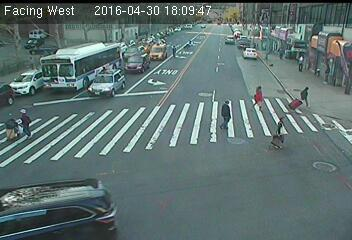neg: (295, 149, 327, 192), (315, 105, 342, 142), (75, 114, 100, 146), (327, 17, 350, 47), (329, 71, 350, 100), (136, 114, 157, 142), (15, 68, 35, 96), (182, 78, 202, 105), (239, 41, 259, 67), (45, 63, 64, 89), (128, 29, 147, 54), (21, 32, 39, 57), (106, 29, 124, 54), (128, 66, 146, 91), (277, 19, 295, 43), (304, 14, 321, 38), (213, 42, 228, 62), (224, 20, 237, 37), (108, 62, 120, 78), (78, 64, 90, 80)
pos: (14, 107, 39, 141), (271, 114, 296, 146), (217, 99, 239, 129), (1, 112, 22, 141), (249, 84, 269, 110), (299, 85, 316, 107), (321, 62, 337, 84), (295, 53, 310, 73), (169, 44, 179, 58), (186, 39, 195, 51)
